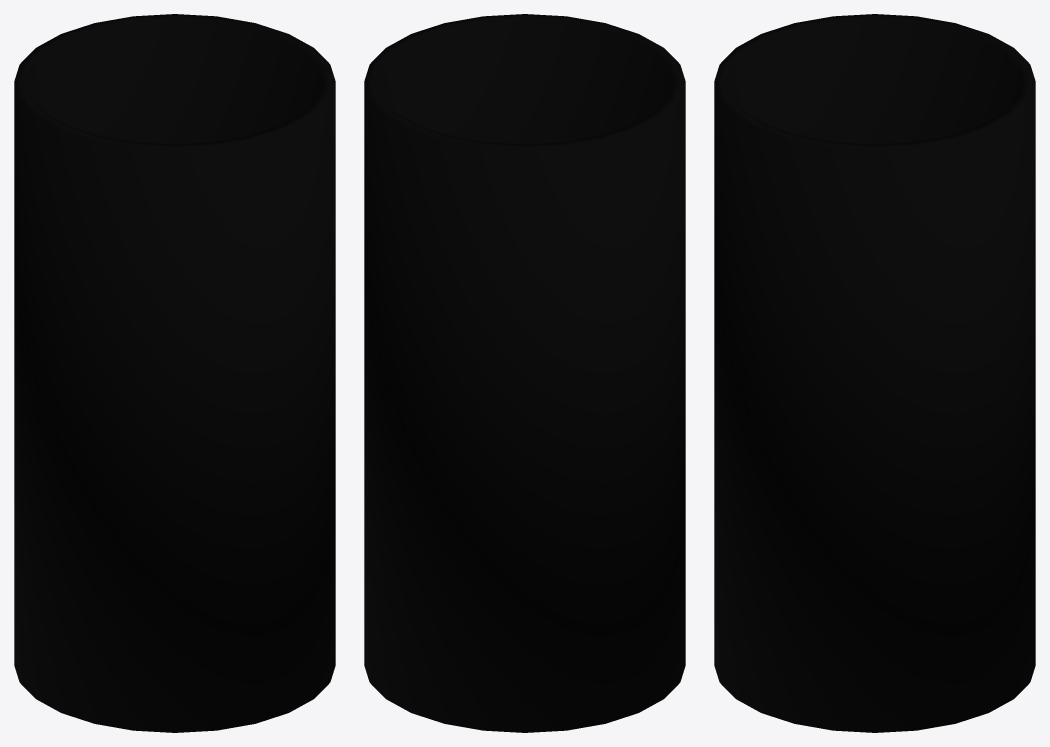
3 renders of one model, left to right at view 1: azimuth 30°, elevation 25°; view 2: azimuth 150°, elevation 25°; view 3: azimuth 270°, elevation 25°, orthographic.
Parts seen in each view (by area): view 1: S1TL3; view 2: S1TL3; view 3: S1TL3.
Part boxes in pixels (<box>): S1TL3: <box>14,14,335,732</box>; S1TL3: <box>364,14,685,732</box>; S1TL3: <box>714,14,1035,732</box>.
Size of the model in its own units: 1.25 by 2.5 by 1.25.
1 material, 1 textured.
